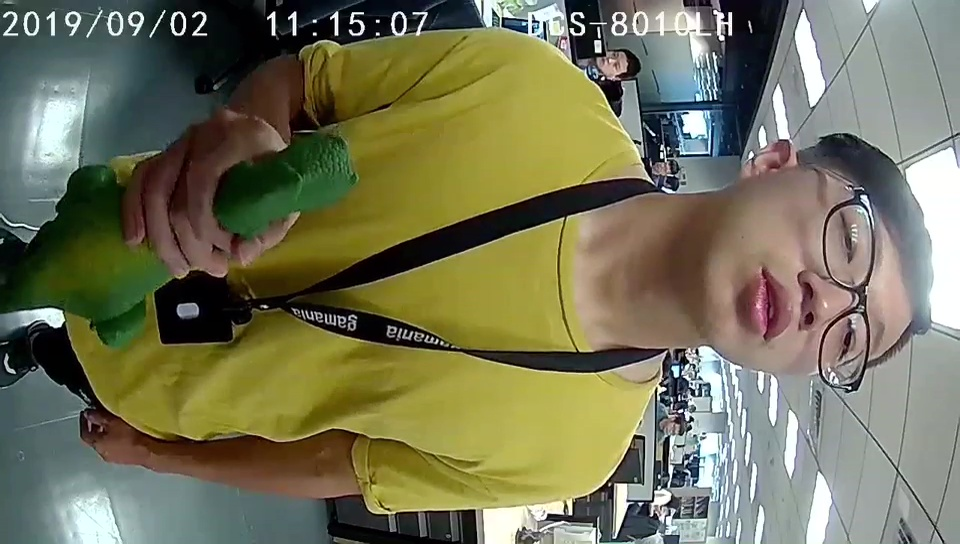rex: (66, 130, 358, 347)
